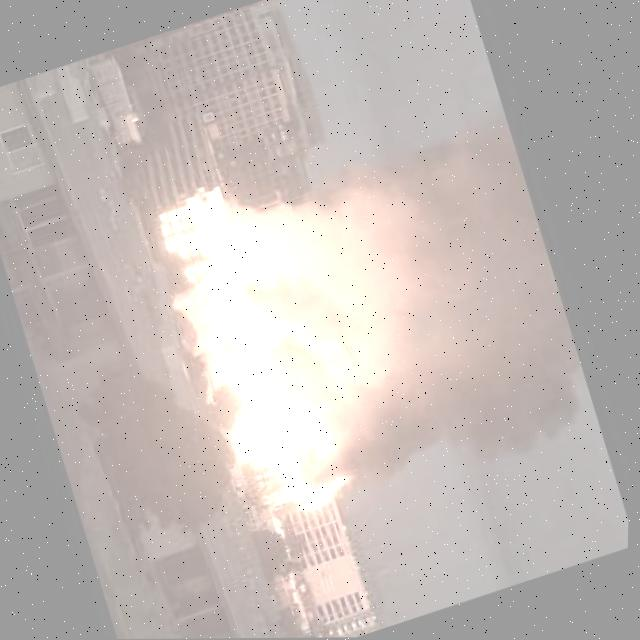Fire: (140, 168, 367, 538)
Smoke: (256, 97, 608, 512)
